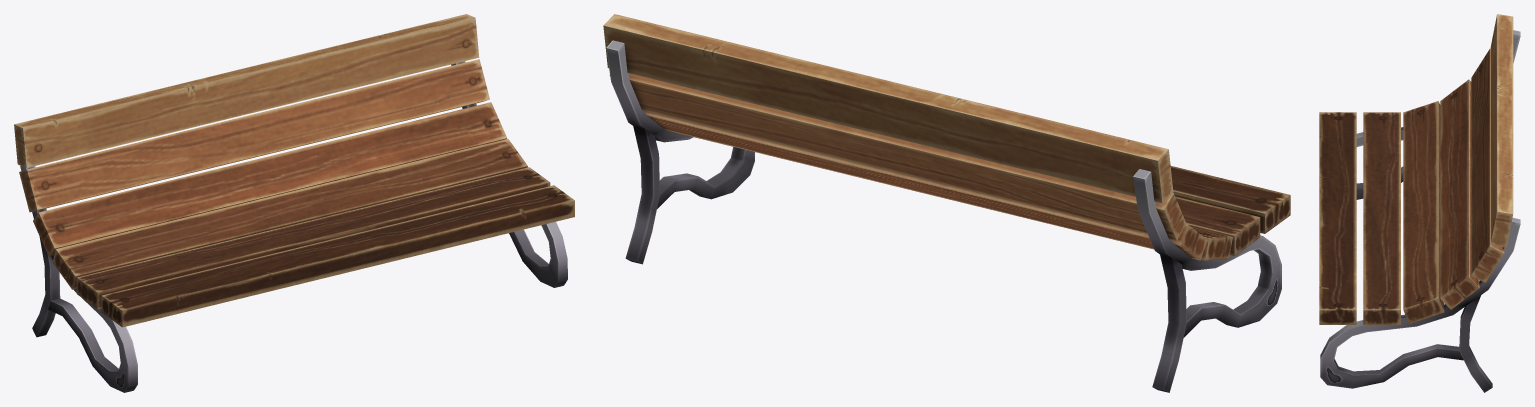
File: ChairA.FBX
The picture shows the model from 3 angles, left to right: view 1: azimuth 30°, elevation 25°; view 2: azimuth 150°, elevation 25°; view 3: azimuth 270°, elevation 25°; orthographic projection. The views are drawn at different scales.
Parts seen in each view (by area): view 1: ChairA_ms1; view 2: ChairA_ms1; view 3: ChairA_ms1.
Boxes of the visible parts, x1=… form: ChairA_ms1: x1=14, y1=14, x2=574, y2=392; ChairA_ms1: x1=603, y1=14, x2=1290, y2=392; ChairA_ms1: x1=1319, y1=14, x2=1520, y2=392.
Size of the model in its own units: 200 by 86.85 by 86.15.
